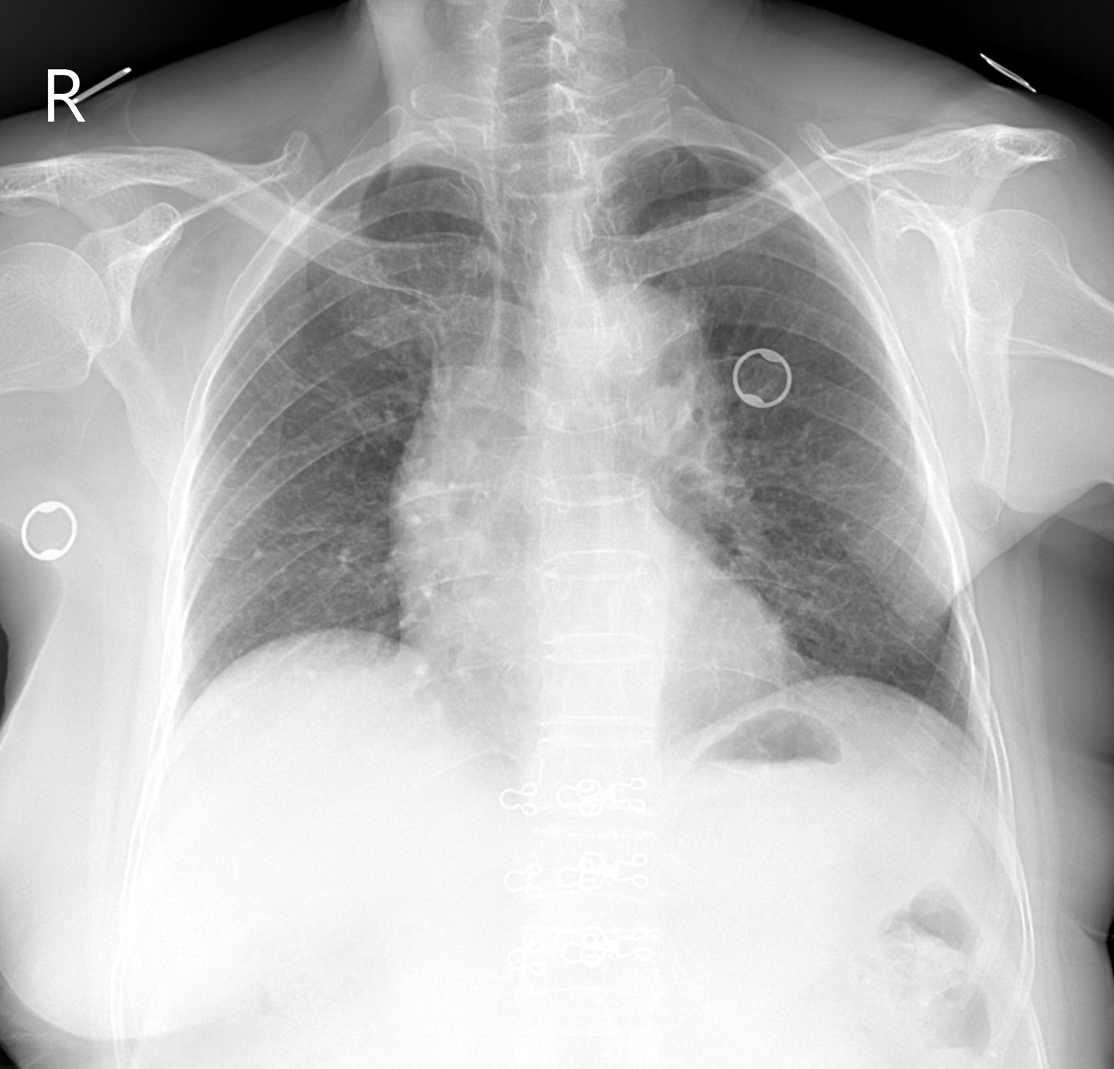Aortic enlargement: (554, 285, 720, 458)
Cardiomegaly: (399, 574, 799, 716)
Pulmonary fibrosis: (315, 361, 417, 456), (258, 522, 331, 537), (224, 430, 251, 445)
